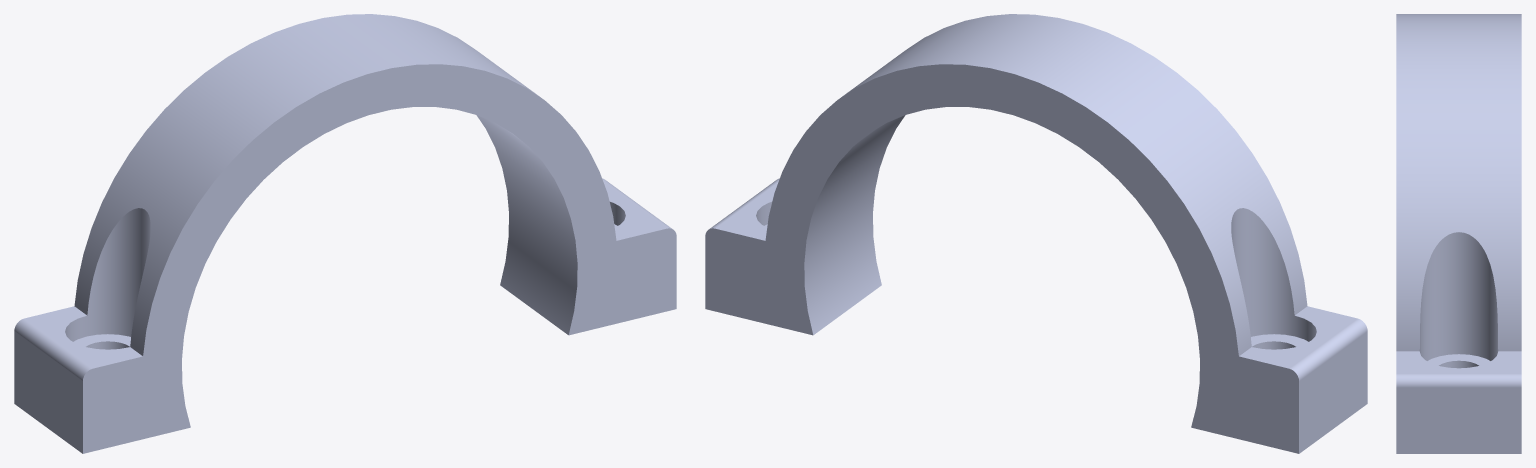
File: Camshaft_Top_Mount.glb
The picture shows the model from 3 angles, left to right: view 1: azimuth 30°, elevation 25°; view 2: azimuth 150°, elevation 25°; view 3: azimuth 270°, elevation 25°; orthographic projection. The views are drawn at different scales.
Visible parts, largest first — view 1: Camshaft Top Mount; view 2: Camshaft Top Mount; view 3: Camshaft Top Mount.
Part boxes in pixels (left/top/right/bottom): Camshaft Top Mount: left=14, top=14, right=676, bottom=453; Camshaft Top Mount: left=705, top=14, right=1367, bottom=453; Camshaft Top Mount: left=1396, top=14, right=1521, bottom=453.
Size of the model in its own units: 0.06 by 0.03 by 0.012.
